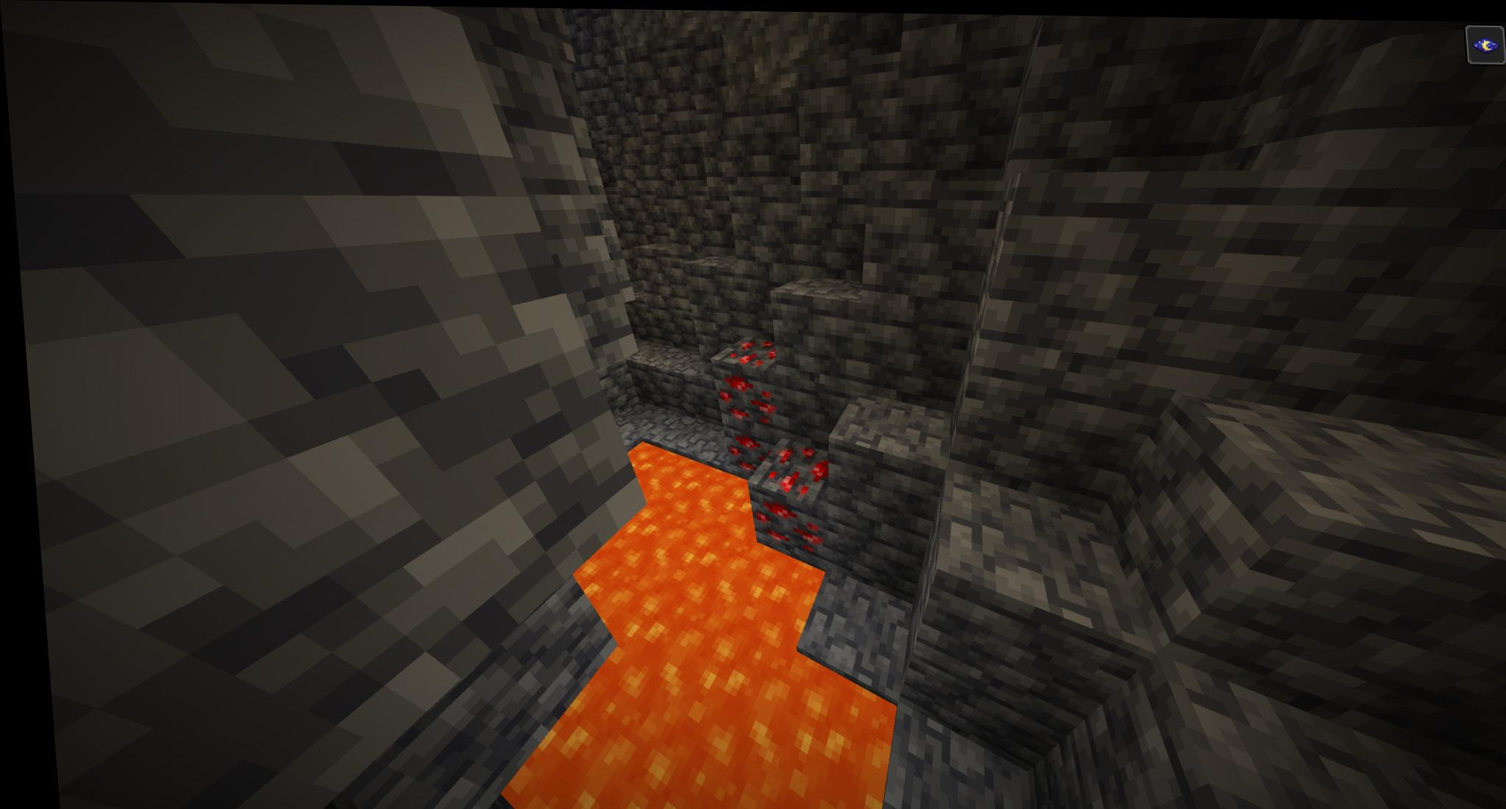redstone ore: (739, 437, 834, 541), (709, 334, 784, 417)
